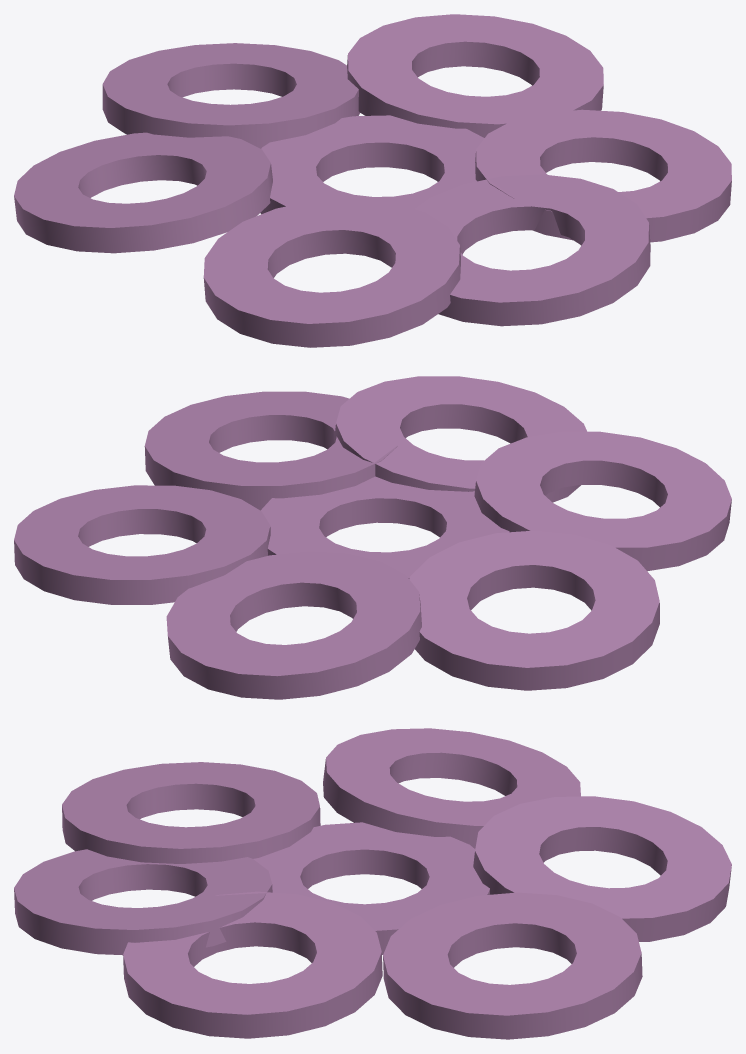
Rendered from CebollaPreparada.fbx.
The picture shows the model from 3 angles, top to bottom: view 1: azimuth 30°, elevation 25°; view 2: azimuth 150°, elevation 25°; view 3: azimuth 270°, elevation 25°; orthographic projection.
Parts seen in each view (by area): view 1: pPipe62; view 2: pPipe62; view 3: pPipe62.
Part boxes in pixels (box(x1,y1,x2,y2)): pPipe62: box(14, 14, 731, 347); pPipe62: box(14, 376, 731, 699); pPipe62: box(14, 728, 731, 1039).
Bounding box in the file's own units: 3.54 × 0.3146 × 3.76.
